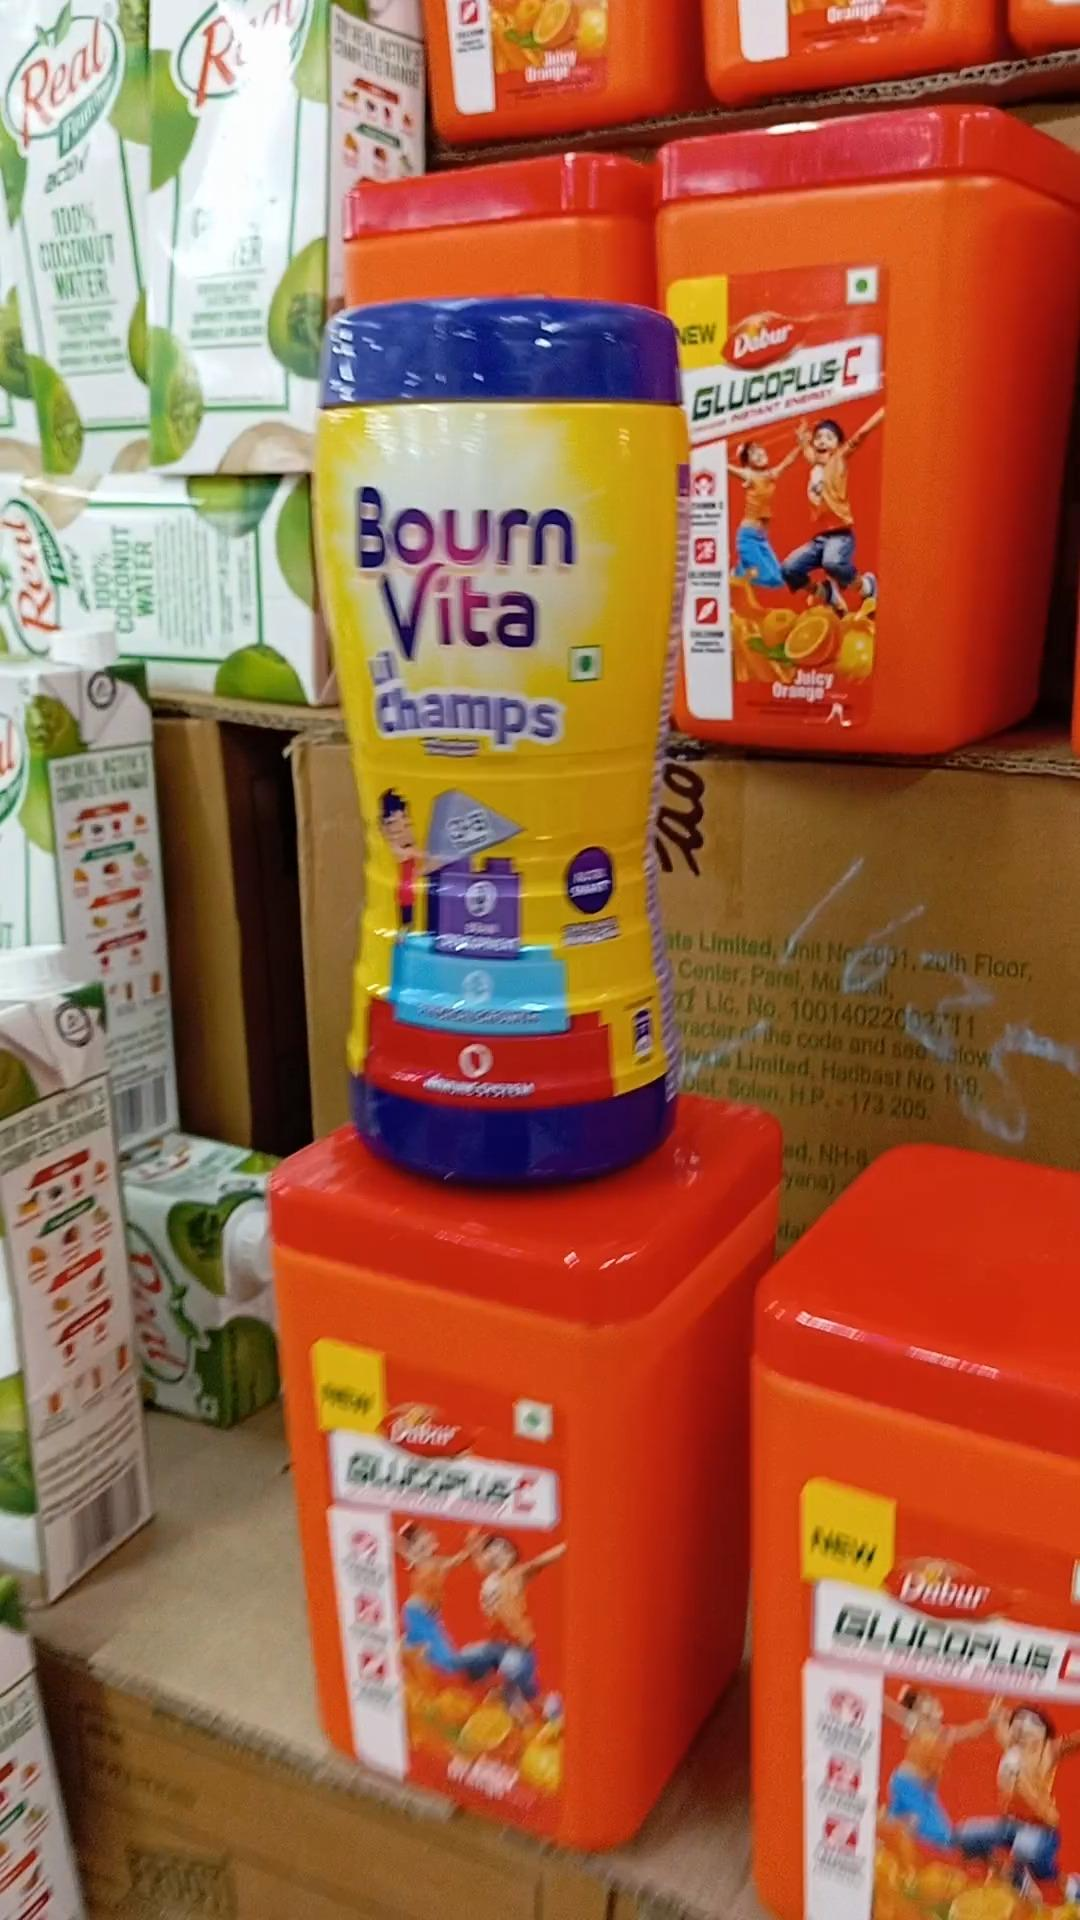BOURN_VITA_CHAMPS_500_G_JAR: (307, 291, 691, 1197)
